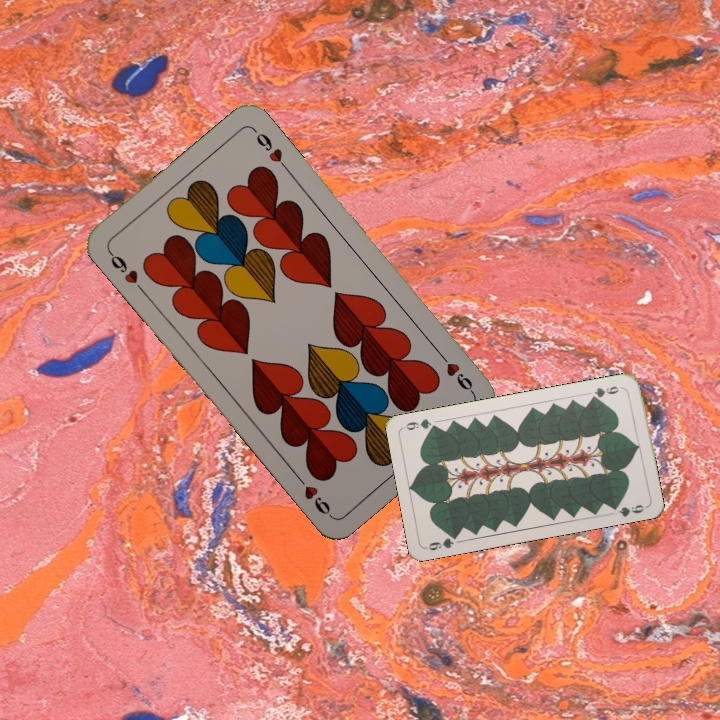G9: (422, 530, 461, 553), (587, 382, 626, 402)
H9: (434, 348, 478, 398), (104, 246, 147, 296)
